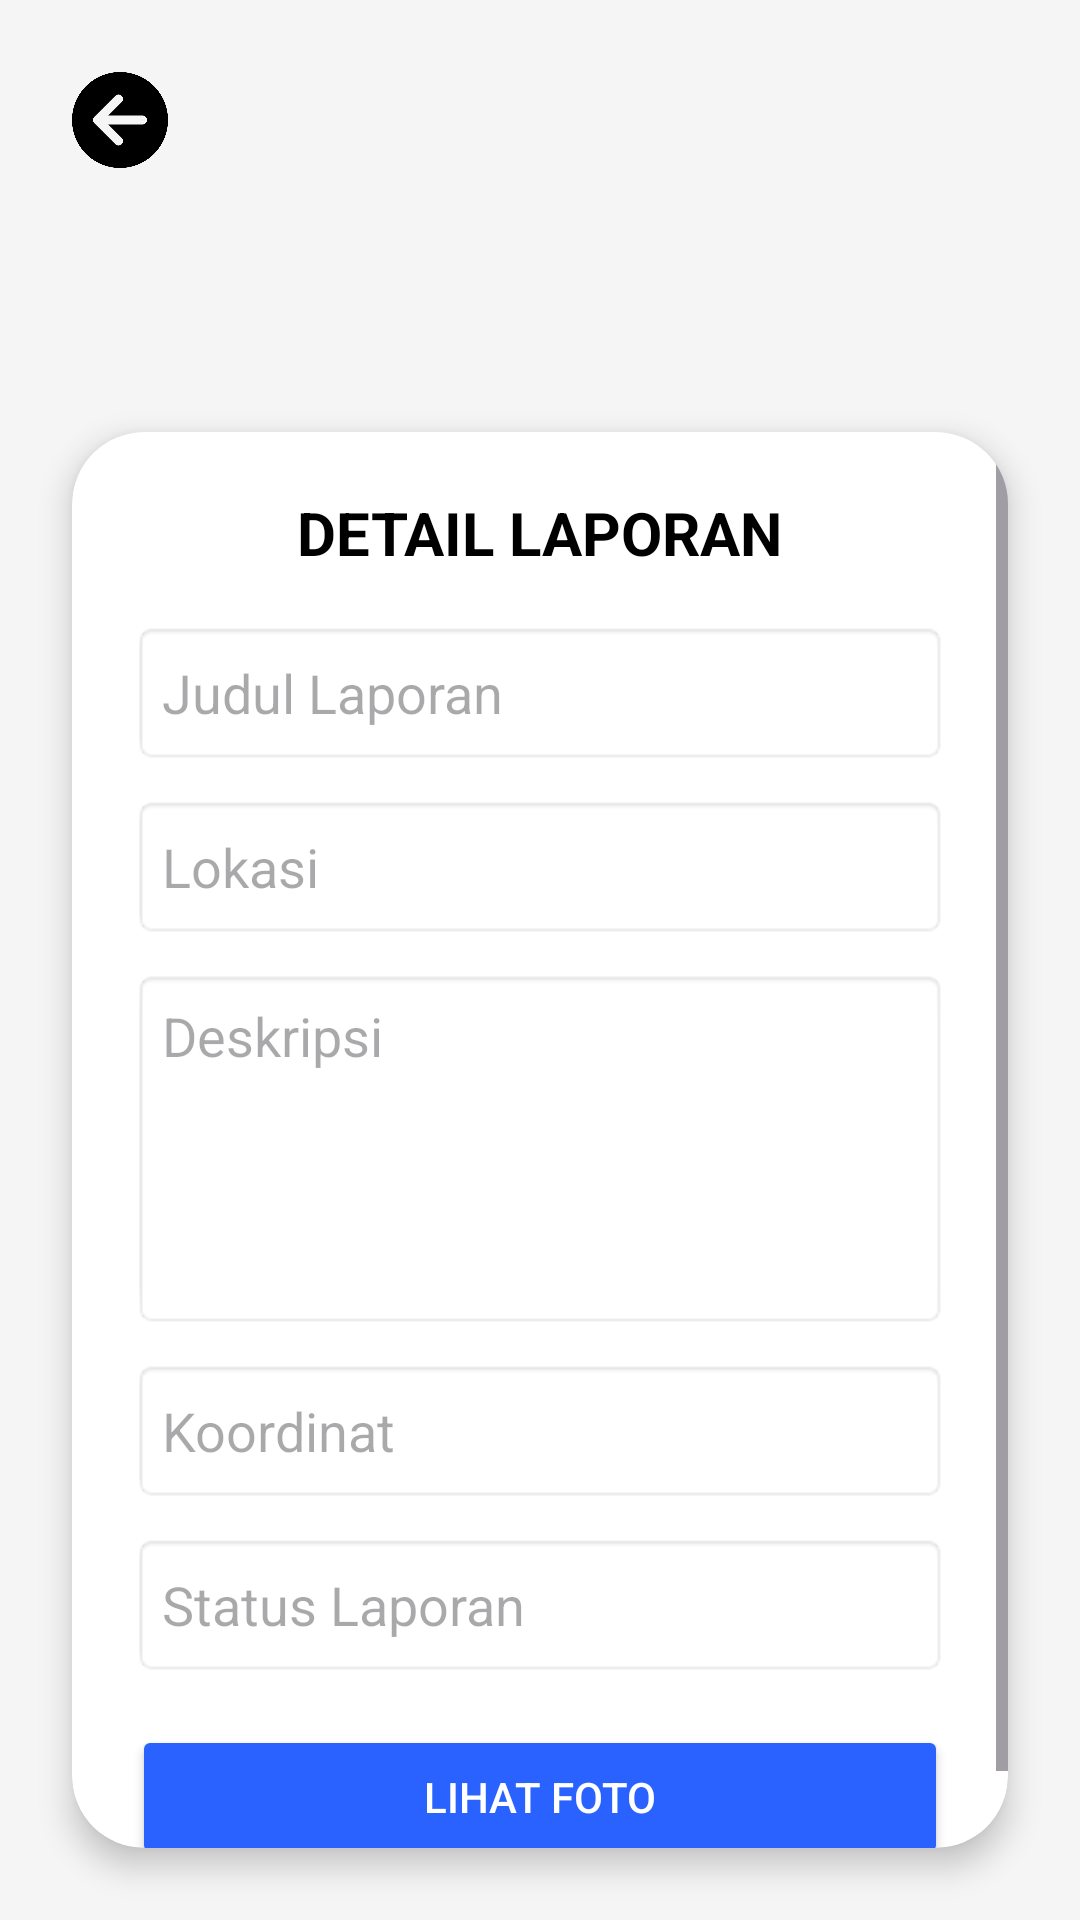

Named icons in this screenshot (1080 × 1920) and their centers, point (x, y):
Back Button: point (120, 120)
